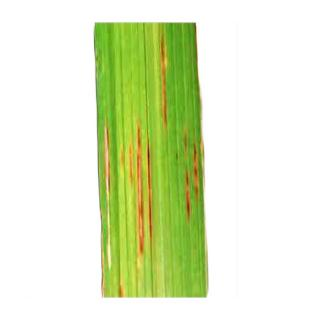Bercak-Cokelat-Sempit: (103, 120, 158, 264), (177, 129, 212, 217), (154, 29, 172, 137)
